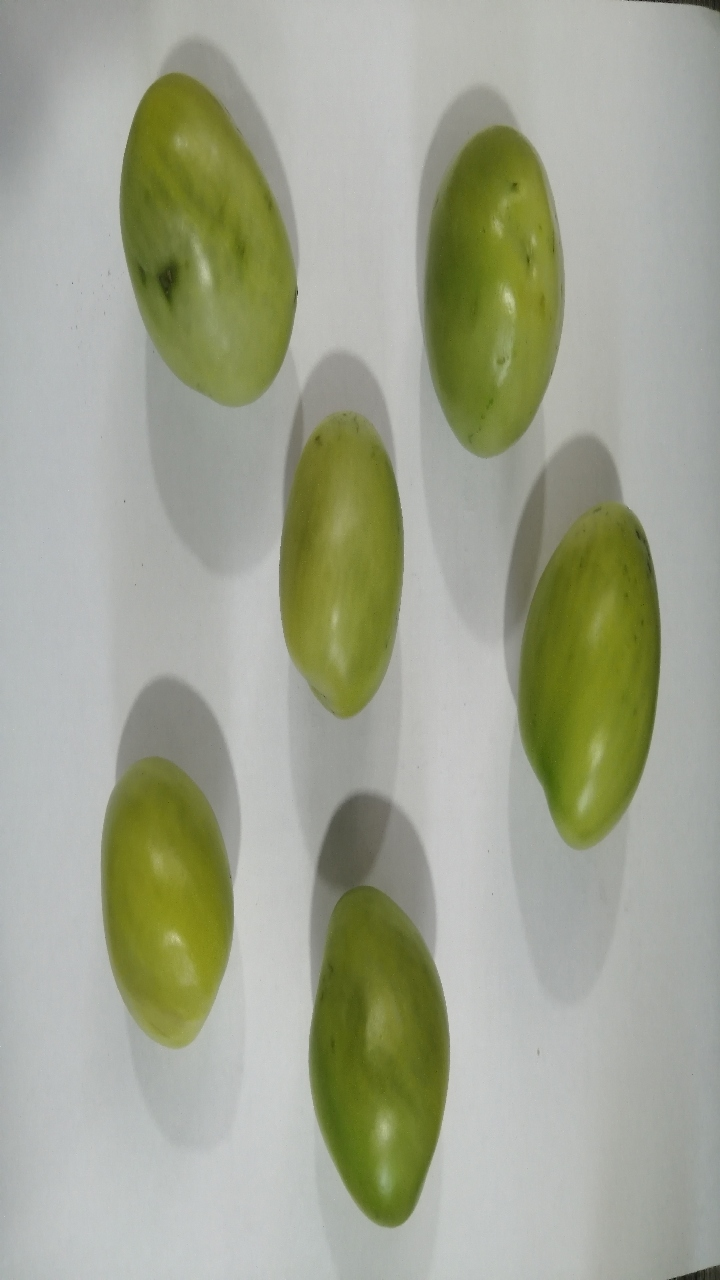tomateVerde: (81, 57, 306, 423), (391, 100, 604, 480), (263, 868, 475, 1232), (491, 489, 675, 857), (74, 742, 255, 1071), (238, 405, 421, 720)
